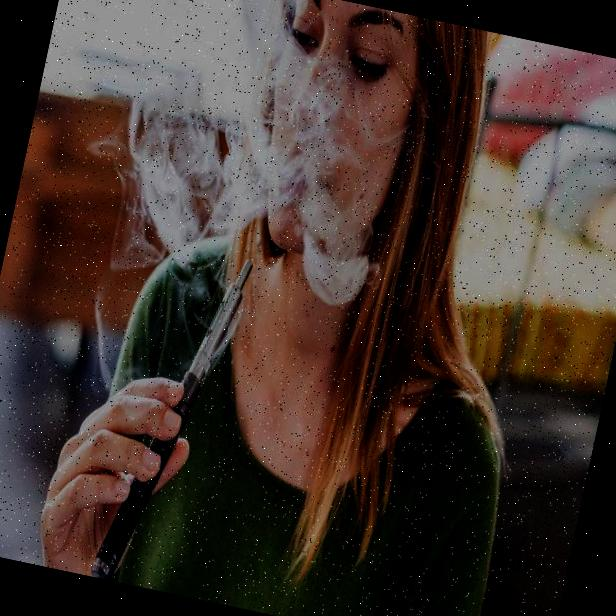smoke: (89, 0, 428, 339)
